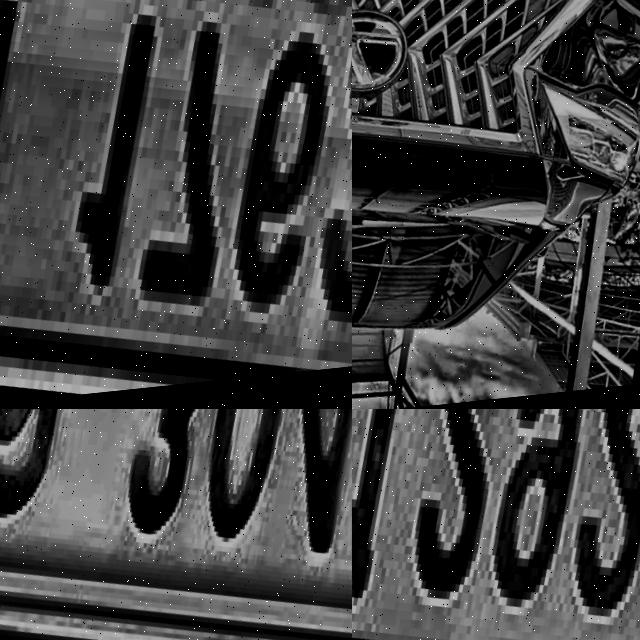license-plate: (0, 0, 352, 409), (0, 409, 352, 640), (352, 409, 640, 640)
